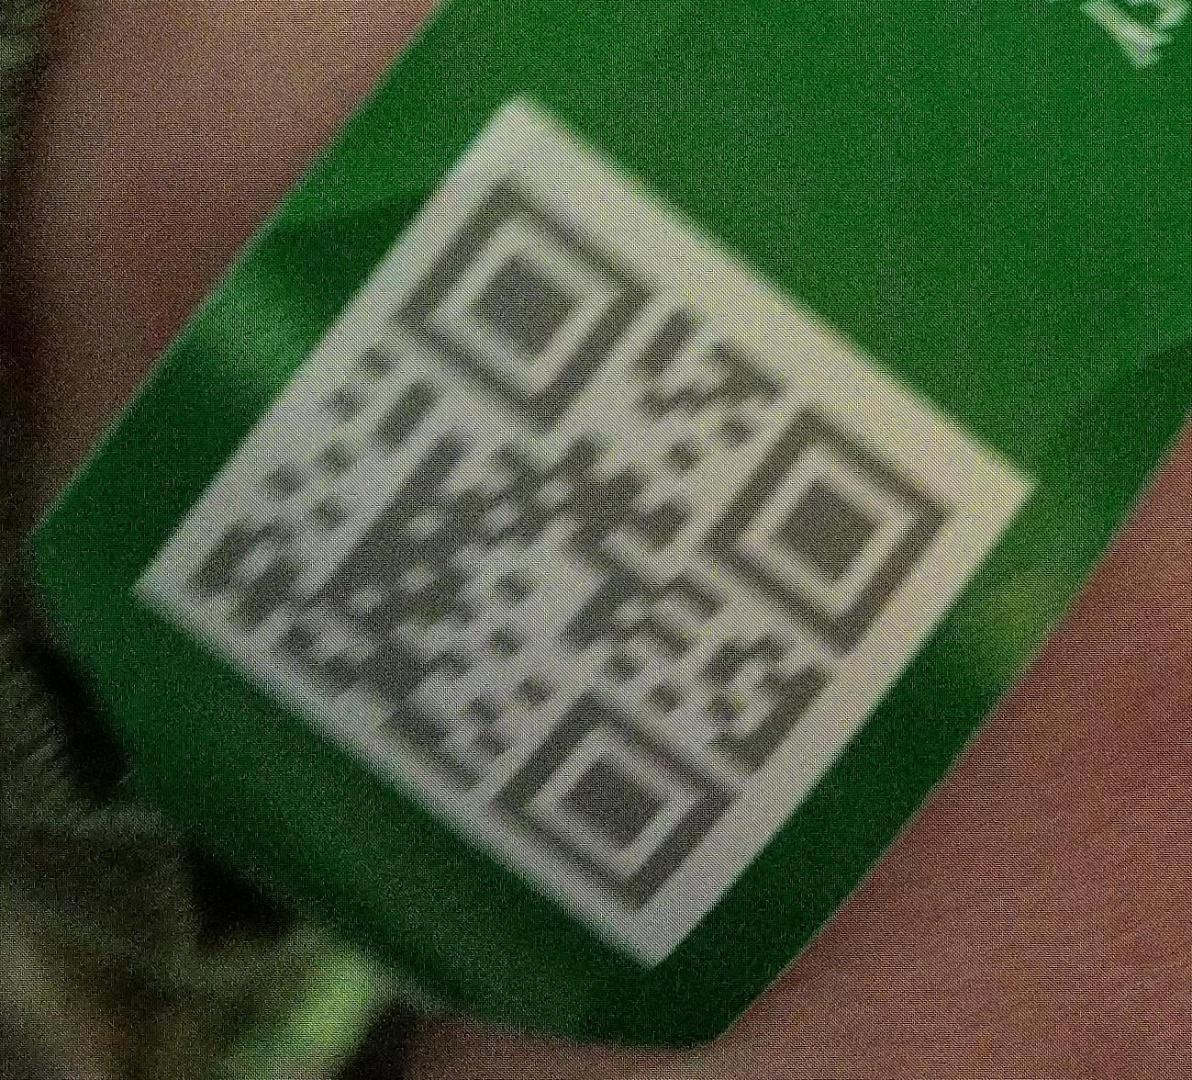Finder pattern: (392, 185, 651, 433), (709, 398, 939, 655), (482, 688, 740, 914)
